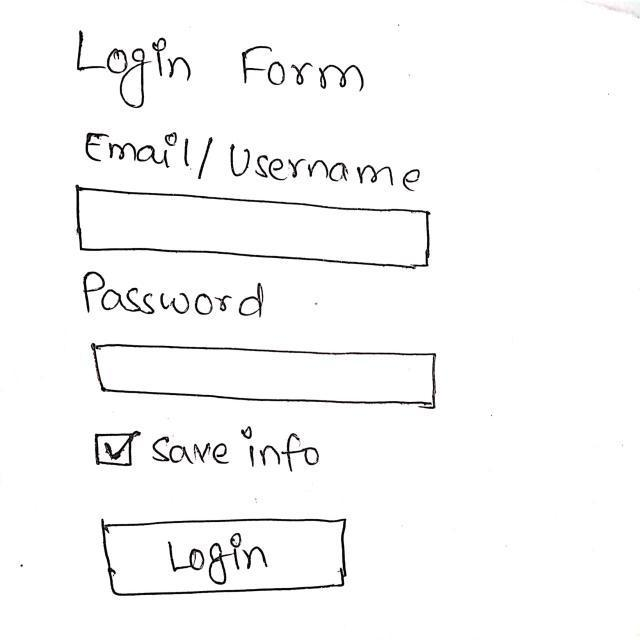textbox: (87, 334, 453, 417)
